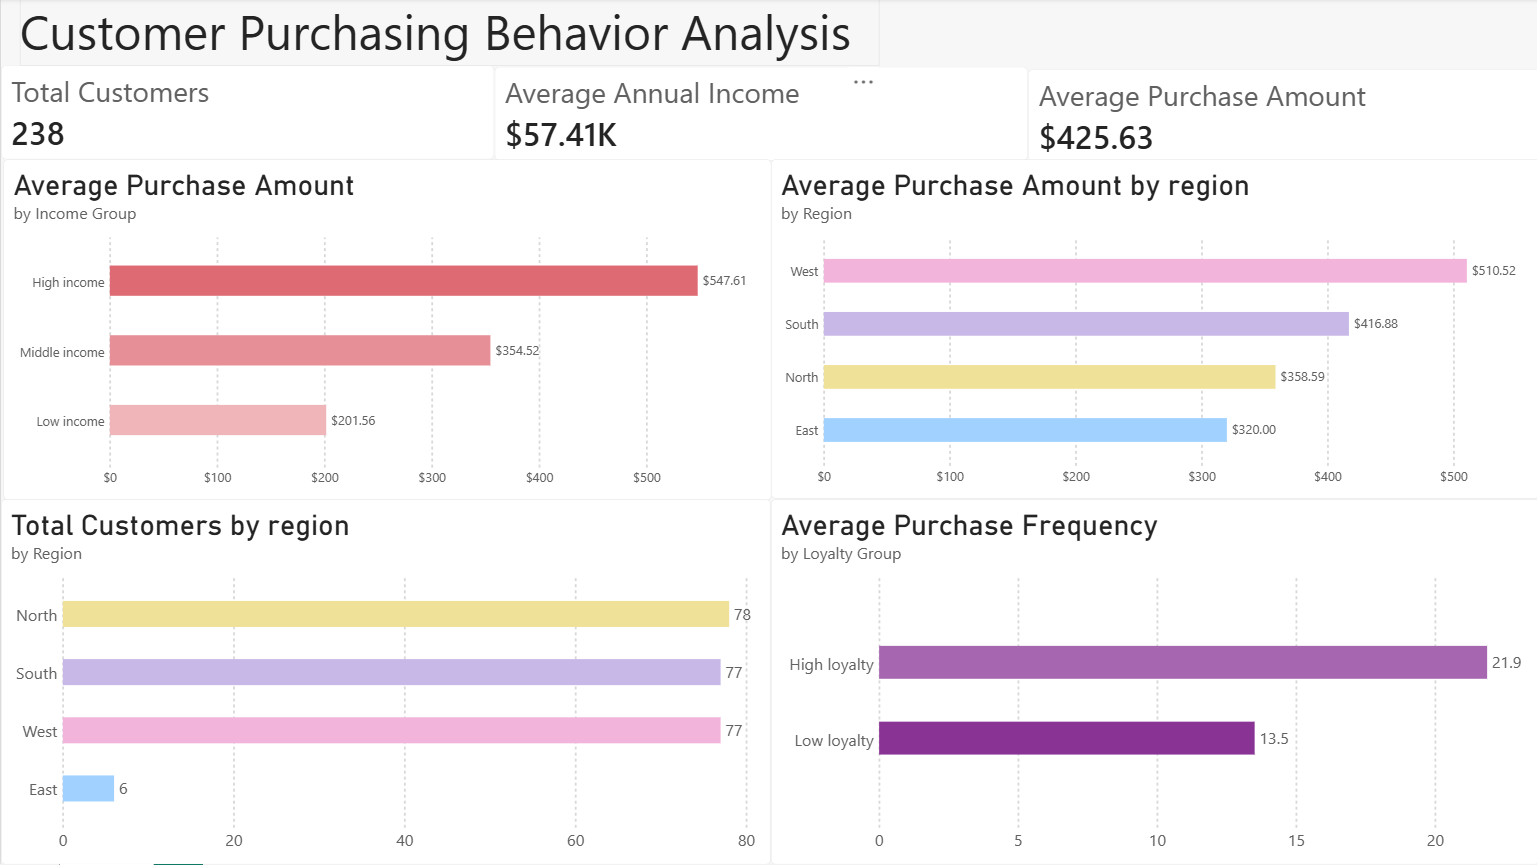

Layout of this report page (visuals, bound fields, positions):
{"tool":"powerbi","page":{"name":"Page 1","canvas":[2560,1440],"ordinal":0},"visuals":[{"type":"cardVisual","fields":{"Data":["Customer Purchasing Behaviors.Total Customers"]},"box":[0,111.3,820.9,156.5],"z":0},{"type":"cardVisual","fields":{"Data":["Customer Purchasing Behaviors.Average Annual Income"]},"box":[820.9,114.8,887,156.5],"z":1000},{"type":"cardVisual","fields":{"Data":["Customer Purchasing Behaviors.Average Purchase Amount"]},"box":[1707.8,118.3,852.2,156.5],"z":2000},{"type":"textbox","box":[30.4,0,1431.9,112.8],"z":3000},{"type":"clusteredBarChart","fields":{"Category":["Customer Purchasing Behaviors.Income Group"],"Y":["Customer Purchasing Behaviors.Average Purchase Amount"]},"box":[3.5,267.8,1276.5,567],"z":4000},{"type":"clusteredBarChart","fields":{"Category":["Customer Purchasing Behaviors.region"],"Y":["Customer Purchasing Behaviors.Average Purchase Amount"]},"box":[1280,269,1280,564.1],"z":5000},{"type":"barChart","fields":{"Category":["Customer Purchasing Behaviors.region"],"Y":["Customer Purchasing Behaviors.Total Customers"]},"box":[0,833.1,1280,607.5],"z":6000},{"type":"clusteredBarChart","fields":{"Category":["Customer Purchasing Behaviors.Loyalty Group"],"Y":["Customer Purchasing Behaviors.Average Purchase Frequency"]},"box":[1280,833.1,1280,607.5],"z":6001}]}

Visuals, with their boxes in screenshot pixels (x1, y1, x2, y2), scaled from the page's 2560x1440 canvas onto the 1537x865 screenshot:
cardVisual - Customer Purchasing Behaviors.Total Customers: x1=0 y1=67 x2=493 y2=161
cardVisual - Customer Purchasing Behaviors.Average Annual Income: x1=493 y1=69 x2=1025 y2=163
cardVisual - Customer Purchasing Behaviors.Average Purchase Amount: x1=1025 y1=71 x2=1536 y2=165
textbox: x1=18 y1=0 x2=878 y2=68
clusteredBarChart - Customer Purchasing Behaviors.Income Group x Customer Purchasing Behaviors.Average Purchase Amount: x1=2 y1=161 x2=768 y2=501
clusteredBarChart - Customer Purchasing Behaviors.region x Customer Purchasing Behaviors.Average Purchase Amount: x1=768 y1=162 x2=1536 y2=500
barChart - Customer Purchasing Behaviors.region x Customer Purchasing Behaviors.Total Customers: x1=0 y1=500 x2=768 y2=864
clusteredBarChart - Customer Purchasing Behaviors.Loyalty Group x Customer Purchasing Behaviors.Average Purchase Frequency: x1=768 y1=500 x2=1536 y2=864
